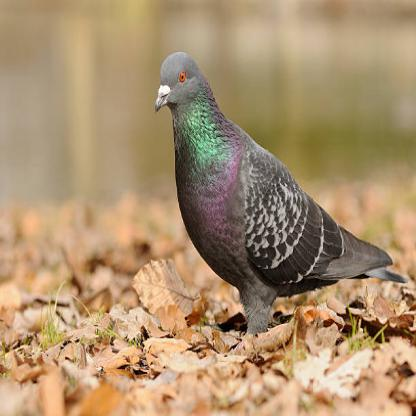Rock Pigeon: (157, 52, 406, 304)
